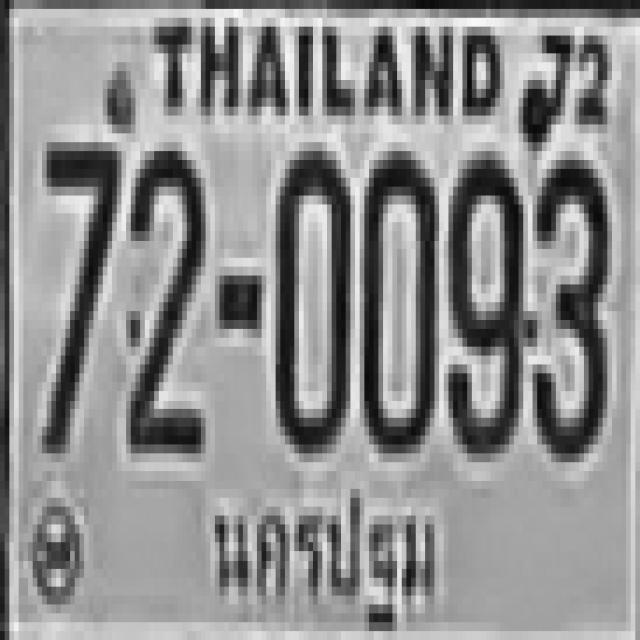0: (271, 143, 346, 444), (360, 143, 434, 444)
2: (126, 143, 201, 444)
3: (526, 151, 605, 453)
7: (42, 133, 117, 444)
9: (444, 147, 518, 449)
NakhonPathom: (205, 480, 442, 636)
